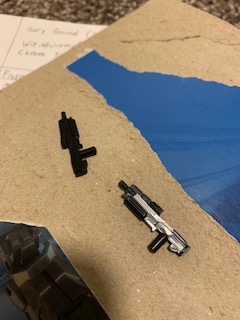rifle: (115, 178, 191, 262), (56, 110, 99, 182)
